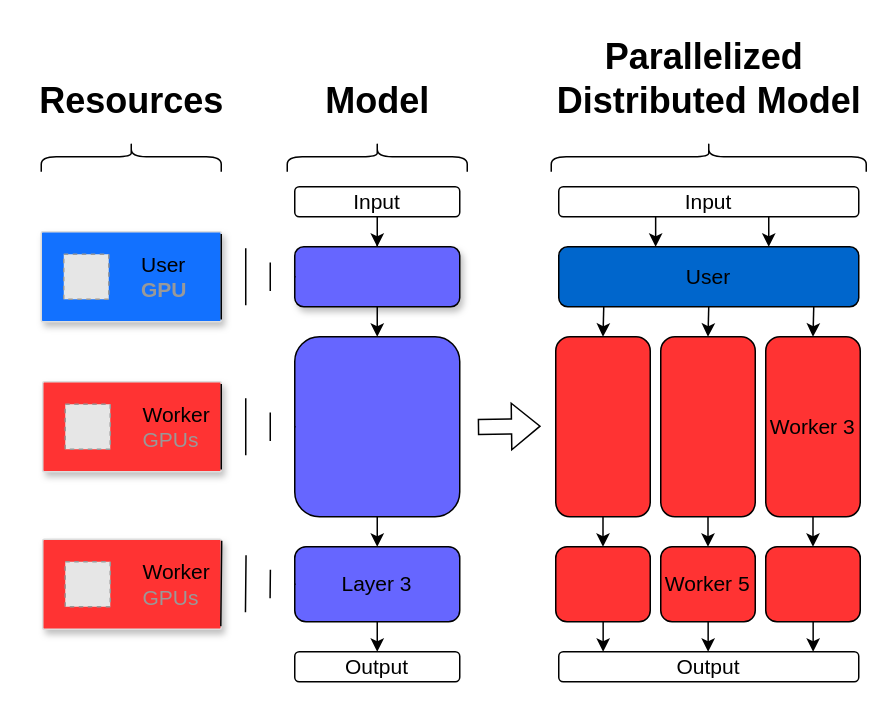
Some shapes in this 893 by 708 pixel diagram are drawn without their labels. Grey dashed boxes stand in for pictures. The shapes that lost their labels are listed below. From the top down, each one's centre as x and y in pixels, then its label:
At [378,278]: "Layer 1".
At [376,426]: "Layer 2".
At [602,426]: "Worker 1".
At [707,426]: "Worker 2".
At [602,583]: "Worker 4".
At [812,583]: "Worker 6".
